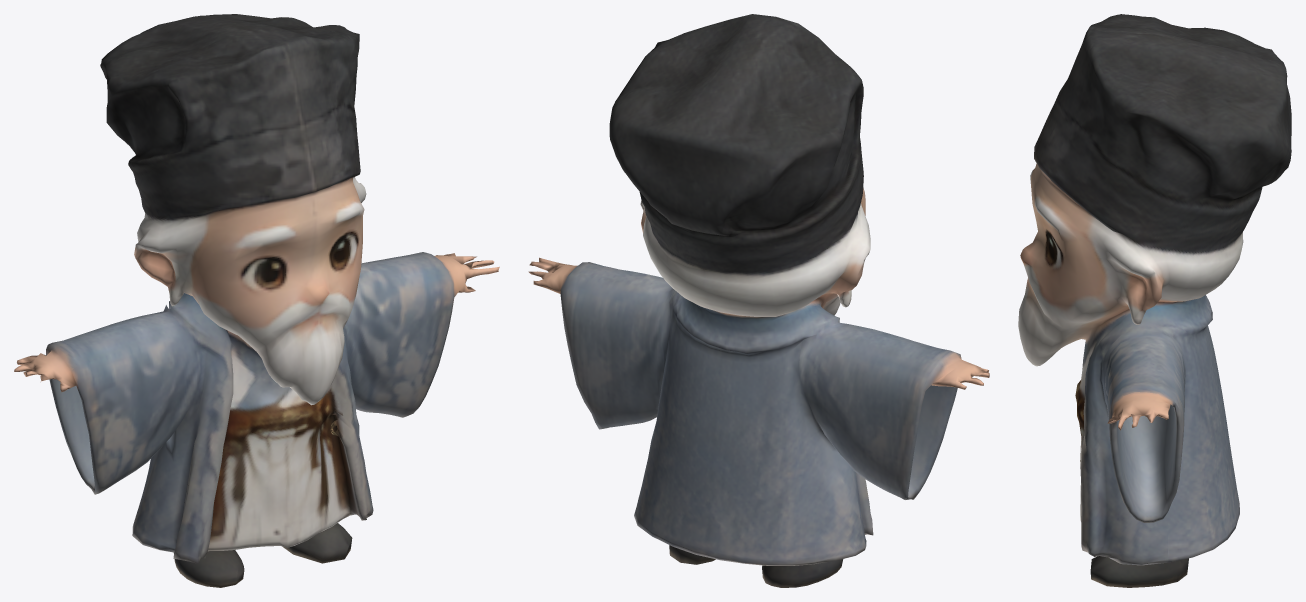
File: scholar_source_extracted.glb
3 views of the same model, side by side, from view 1: azimuth 30°, elevation 25°; view 2: azimuth 150°, elevation 25°; view 3: azimuth 270°, elevation 25° (orthographic). The views are drawn at different scales.
Parts seen in each view (by area): view 1: Scholar_Mesh; view 2: Scholar_Mesh; view 3: Scholar_Mesh.
Boxes of the visible parts, box(x1,y1,x2,y2) form: Scholar_Mesh: box(14, 14, 499, 587); Scholar_Mesh: box(528, 14, 989, 587); Scholar_Mesh: box(1018, 14, 1291, 587).
Bounding box in the file's own units: 1.86 × 2 × 0.9604.
Materials: 1 (1 with a texture image).
